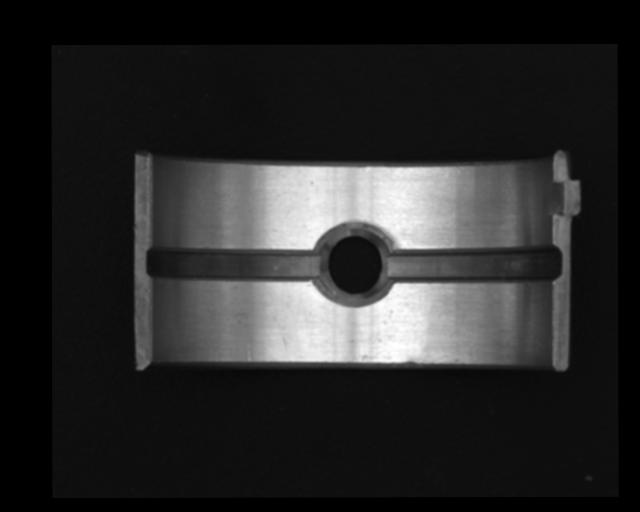gap: (144, 244, 327, 284), (385, 243, 561, 284)
hole: (316, 224, 392, 303)
nick: (244, 341, 252, 362)
